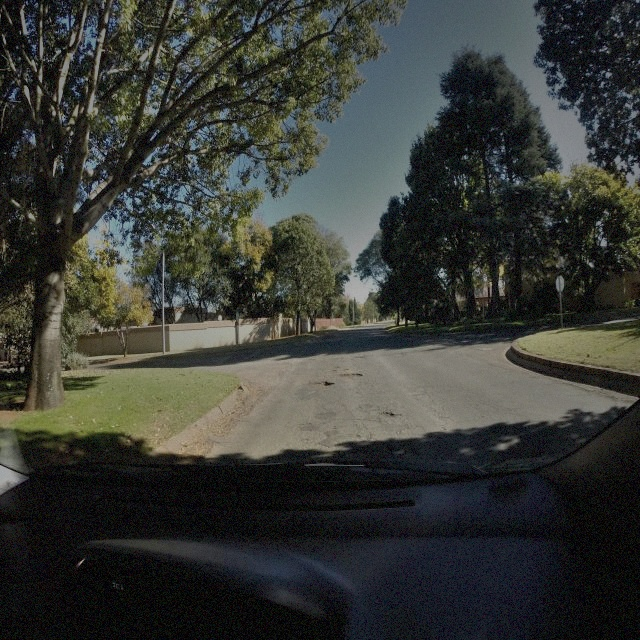pothole: (312, 379, 334, 388), (340, 372, 363, 380), (383, 411, 397, 418)
